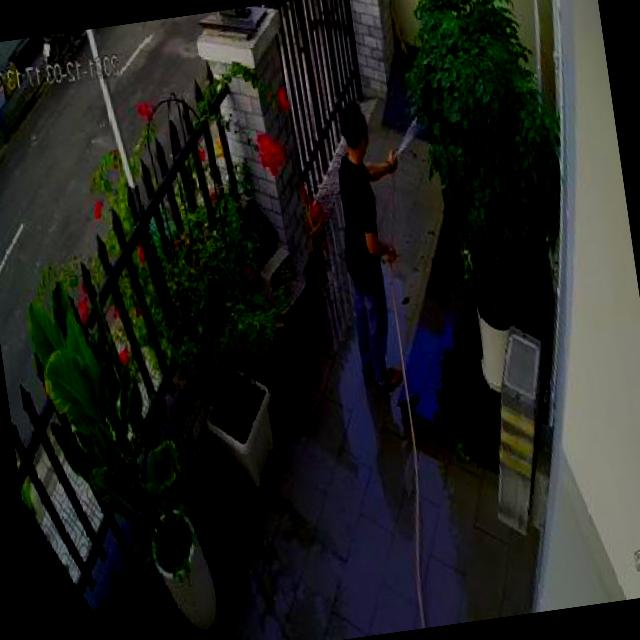Person: (324, 96, 433, 394)
